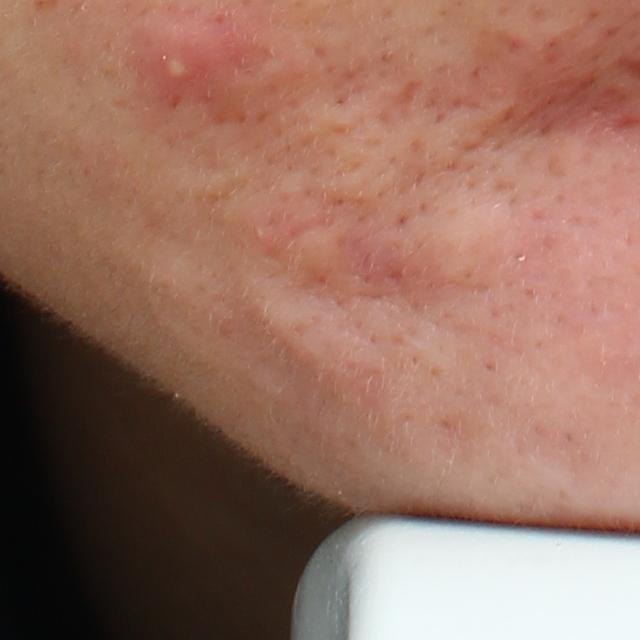hypertrophic_scar: (293, 95, 479, 211), (228, 267, 388, 399), (390, 188, 525, 297), (283, 227, 370, 297)
pustule: (122, 8, 248, 108)
